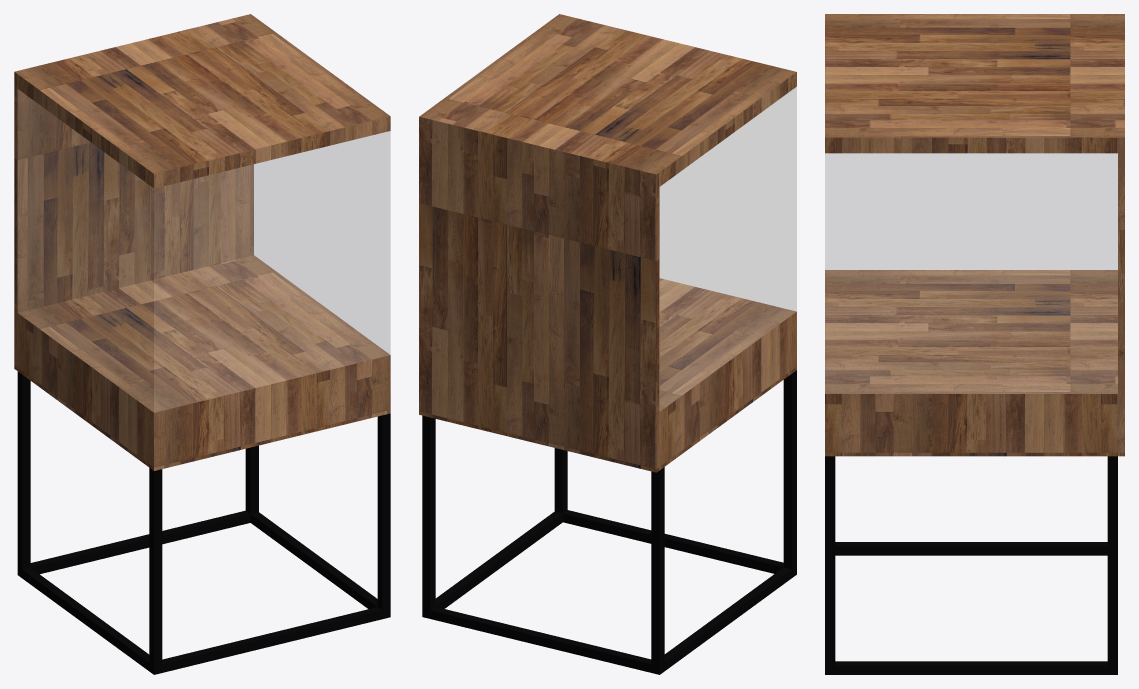
3 views of the same model, side by side, from view 1: azimuth 30°, elevation 25°; view 2: azimuth 150°, elevation 25°; view 3: azimuth 270°, elevation 25° (orthographic). The views are drawn at different scales.
Parts seen in each view (by area): view 1: kaide1; view 2: kaide1; view 3: kaide1.
Part boxes in pixels (x1,y1,x2,y2): kaide1: (14,14,390,674); kaide1: (419,14,796,674); kaide1: (825,14,1124,674).
Bounding box in the file's own units: 0.85 × 1.72 × 0.87.
3 materials, 1 textured.
